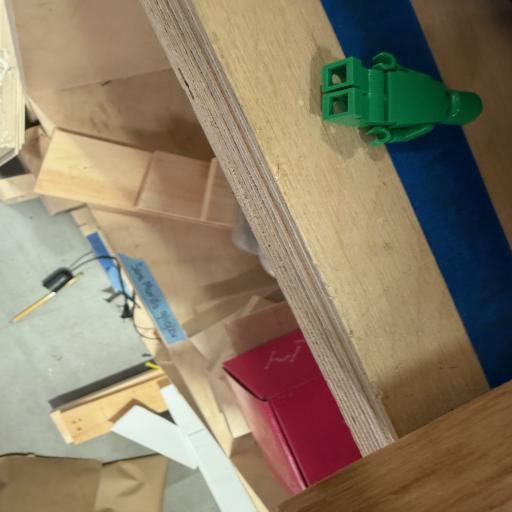Lego-Dude: (322, 52, 482, 147)
